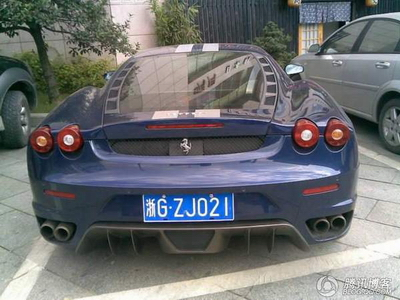plate_number: (142, 193, 234, 221)
